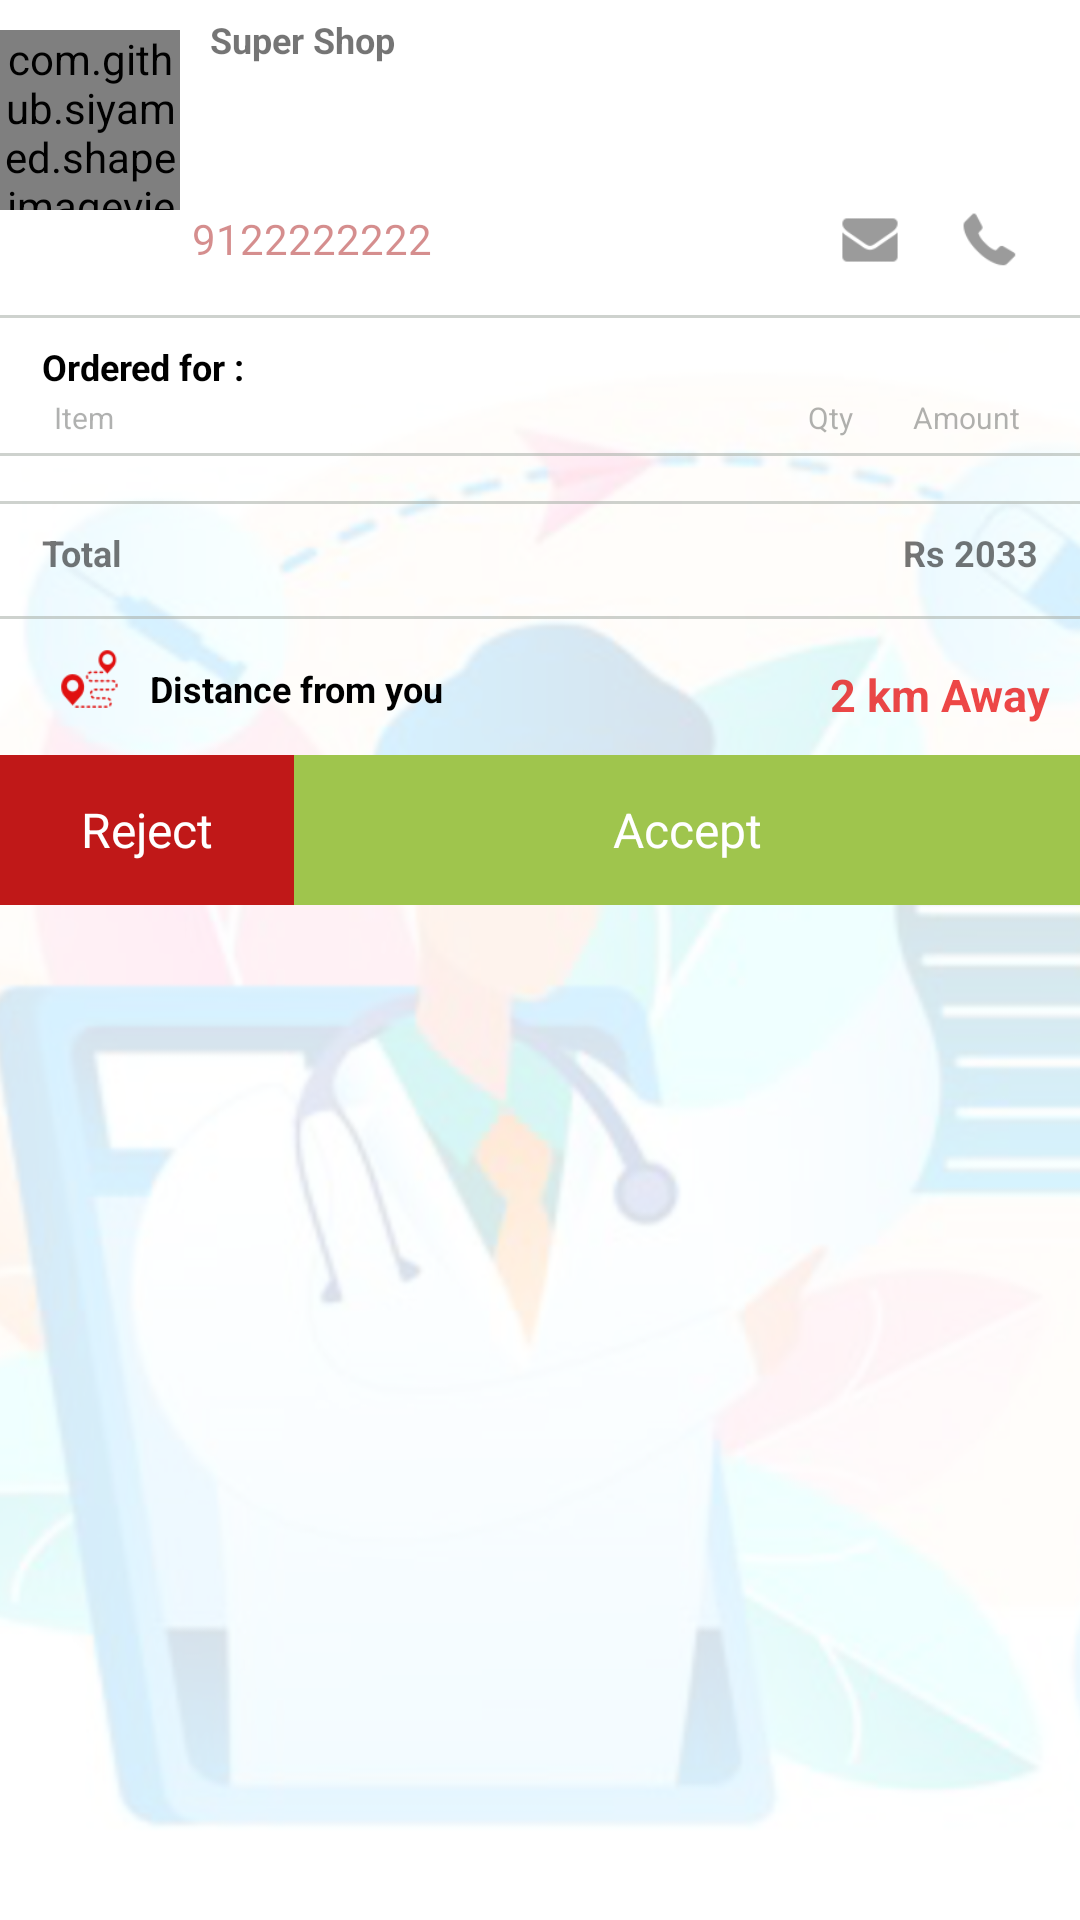

Icons on this 1080px×1920px Android screen, each with its box as box(x1, y1, x2, y2):
call: box(963, 213, 1015, 265)
